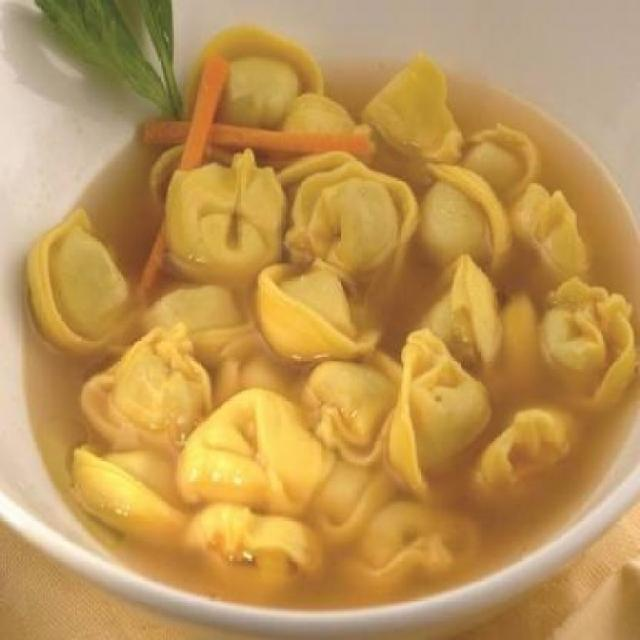Tortellini in broth: (30, 56, 610, 564)
